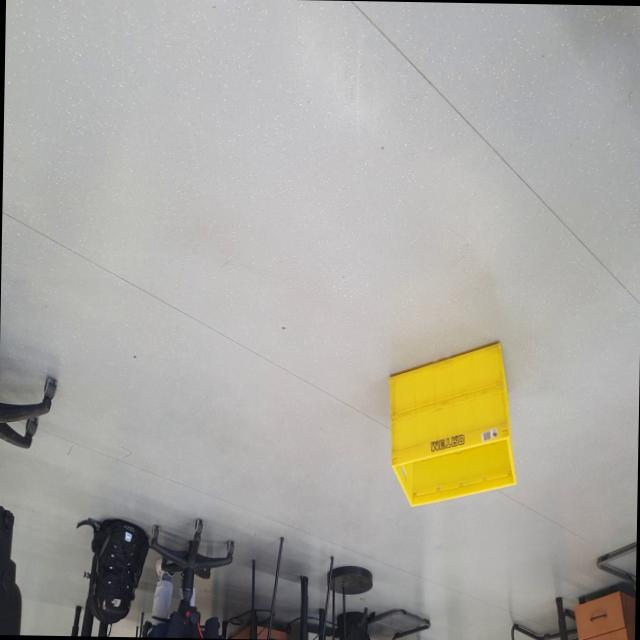box: (383, 314, 520, 518)
